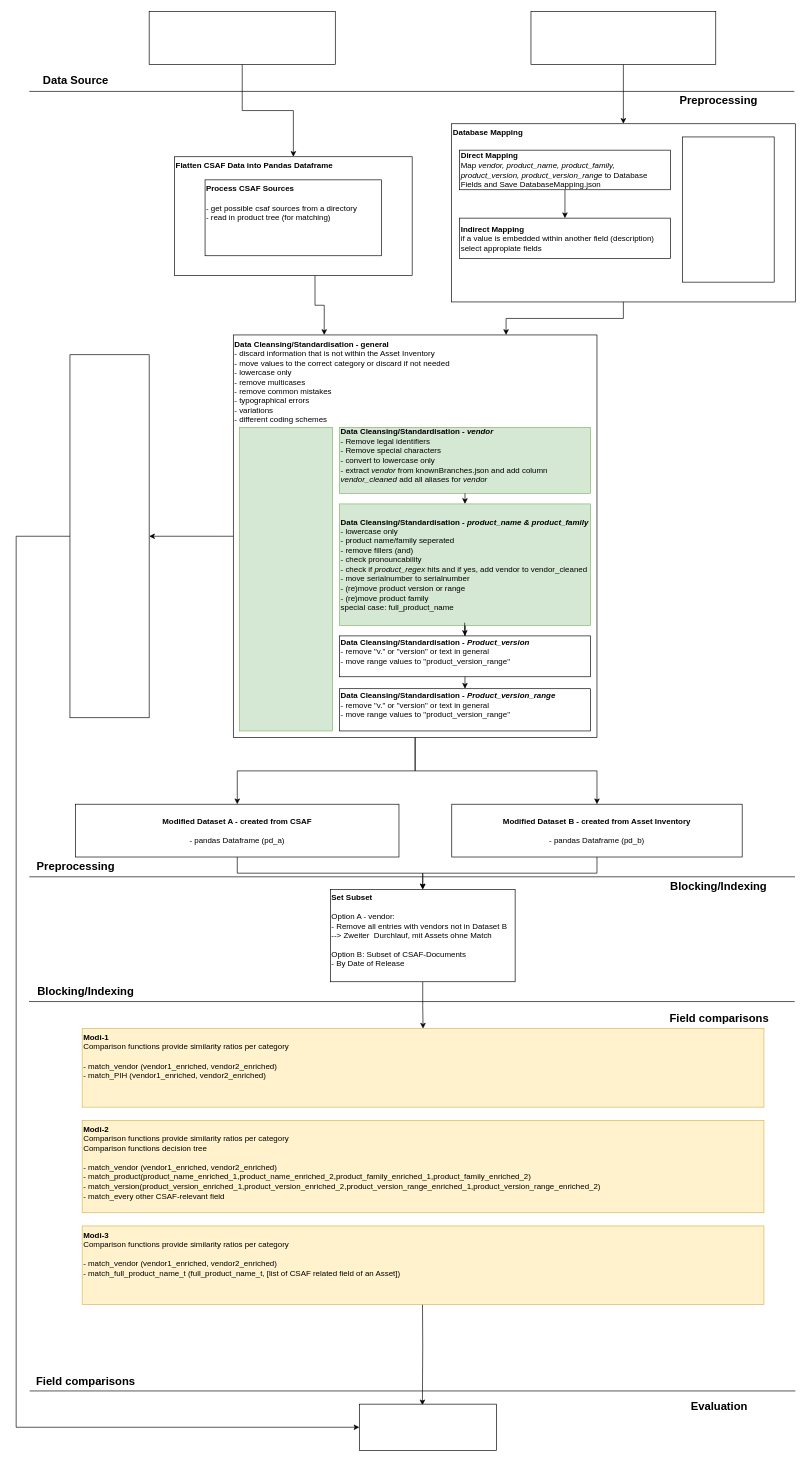
Some shapes in this 808 by 1462 pixel diagram are drawn without their labels. The centre of each missing label's shape, as x and y in pixels:
DatabaseMapping.json: the point at 728,209
Dataset A CSAF Source Files e.g. D:\CSAF: the point at 241,37
Dataset B Asset Inventory via API or datafile: the point at 623,37
Logging of modifications: the point at 109,536
Show Match results: the point at 428,1426
String-Sysiphos normalisation.json re_data.yaml synonym_list.yaml: the point at 286,579
